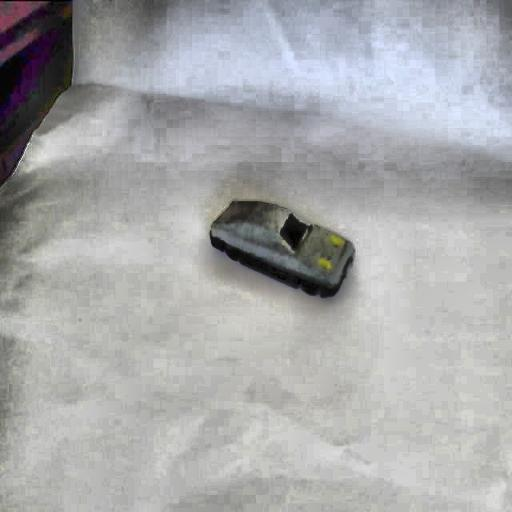normal_car: (206, 196, 356, 298)
